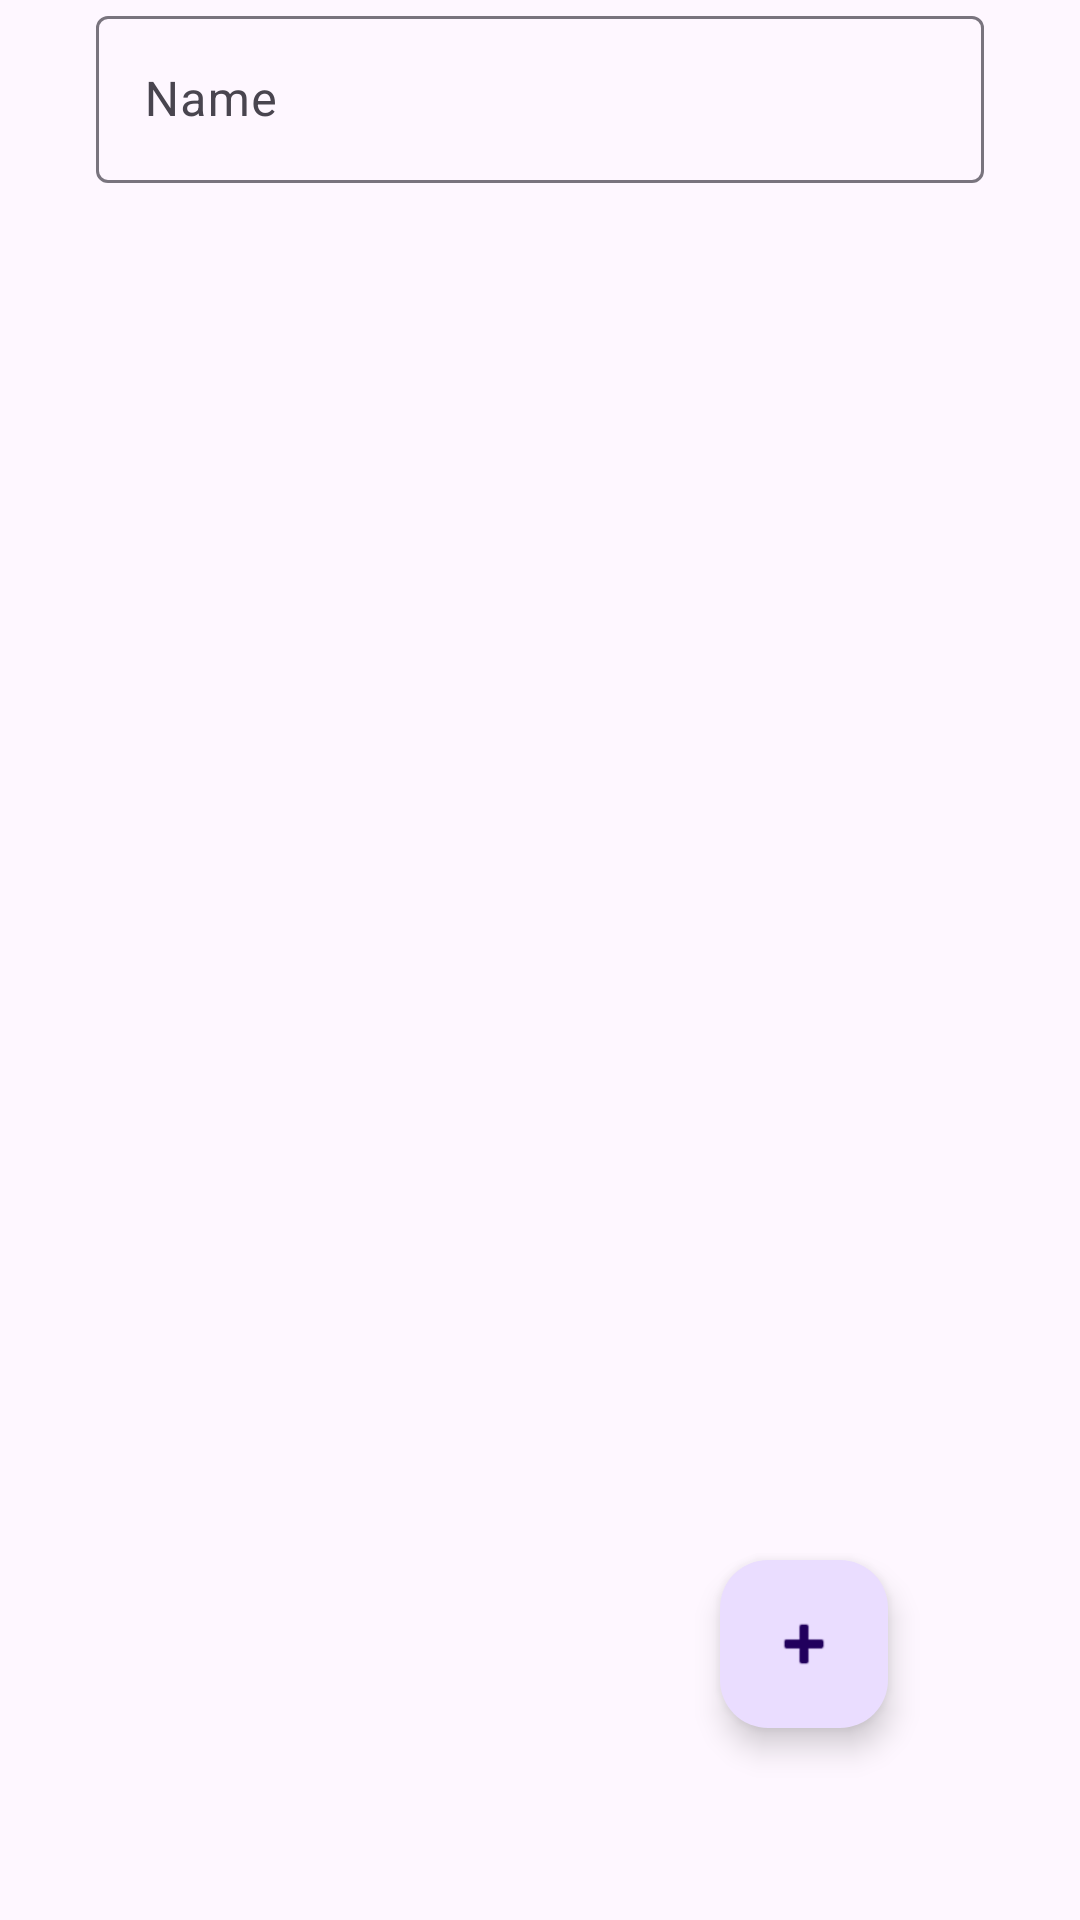

Point at icon controls on the screen. Image size 1080*1920, points as point (x, y).
add: point (804, 1644)
